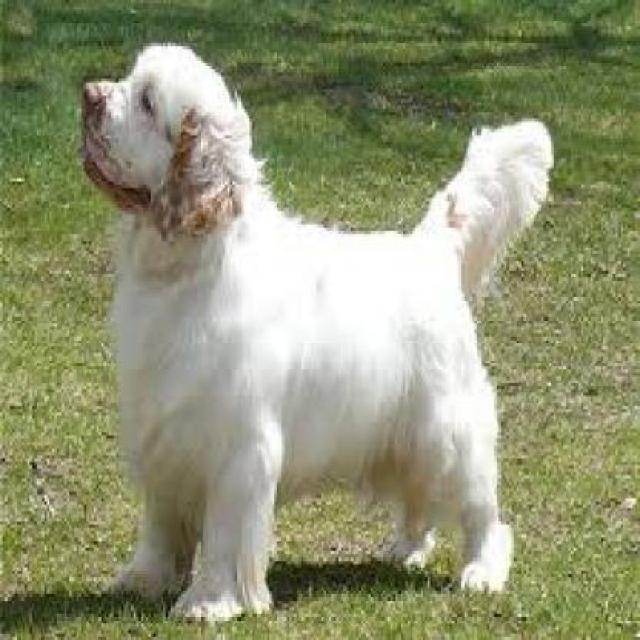animals: (69, 26, 592, 640)
